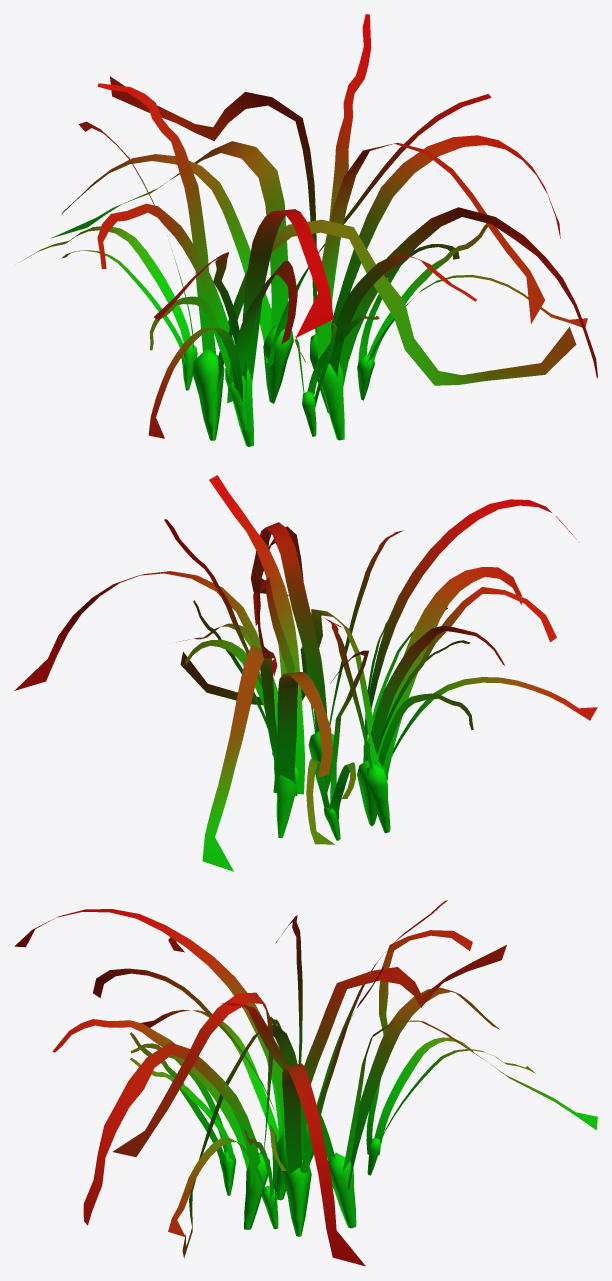
File: QXL_Ribbon_Grass_tbdpec3r_5_LOD0.fbx
The picture shows the model from 3 angles, top to bottom: view 1: azimuth 30°, elevation 25°; view 2: azimuth 150°, elevation 25°; view 3: azimuth 270°, elevation 25°; orthographic projection. The views are drawn at different scales.
Parts seen in each view (by area): view 1: Var6_LOD0; view 2: Var6_LOD0; view 3: Var6_LOD0.
Part boxes in pixels (x1,y1,x2,y2): Var6_LOD0: [19, 14, 597, 446]; Var6_LOD0: [14, 475, 597, 871]; Var6_LOD0: [14, 900, 597, 1266].
Size of the model in its own units: 31.42 by 19.61 by 33.46.
